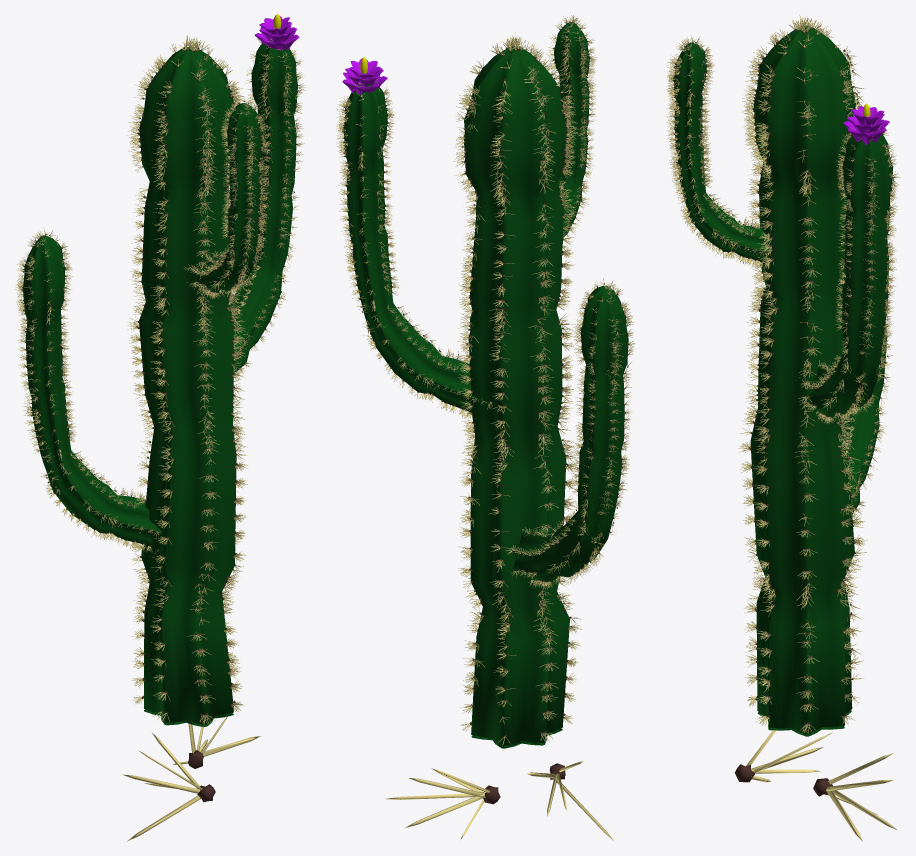
File: cactusperfekt2.fbx
3 renders of one model, left to right at view 1: azimuth 30°, elevation 25°; view 2: azimuth 150°, elevation 25°; view 3: azimuth 270°, elevation 25°, orthographic. The views are drawn at different scales.
Parts seen in each view (by area): view 1: Cylinder, Cylinder.006, Cylinder.005, Cylinder.004, Cube.003, Cube.011; view 2: Cylinder, Cylinder.006, Cylinder.005, Cylinder.004, Cube.011, Cube.003; view 3: Cylinder, Cylinder.005, Cylinder.004, Cylinder.006, Cube.011, Cube.003.
Boxes of the visible parts, left/top/right/bottom form: Cylinder: left=139, top=47, right=236, bottom=726; Cylinder.006: left=23, top=235, right=161, bottom=545; Cylinder.005: left=229, top=40, right=297, bottom=372; Cylinder.004: left=194, top=103, right=261, bottom=292; Cube.003: left=122, top=733, right=215, bottom=841; Cube.011: left=172, top=716, right=260, bottom=768; Cylinder: left=463, top=46, right=569, bottom=748; Cylinder.006: left=512, top=285, right=628, bottom=581; Cylinder.005: left=343, top=82, right=492, bottom=411; Cylinder.004: left=554, top=22, right=589, bottom=243; Cube.011: left=386, top=768, right=500, bottom=838; Cube.003: left=527, top=761, right=613, bottom=840; Cylinder: left=750, top=25, right=855, bottom=736; Cylinder.005: left=808, top=134, right=893, bottom=417; Cylinder.004: left=674, top=42, right=769, bottom=262; Cylinder.006: left=840, top=205, right=890, bottom=514; Cube.011: left=813, top=753, right=896, bottom=841; Cube.003: left=734, top=730, right=832, bottom=782.
Size of the model in its own units: 761 by 1987 by 529.
